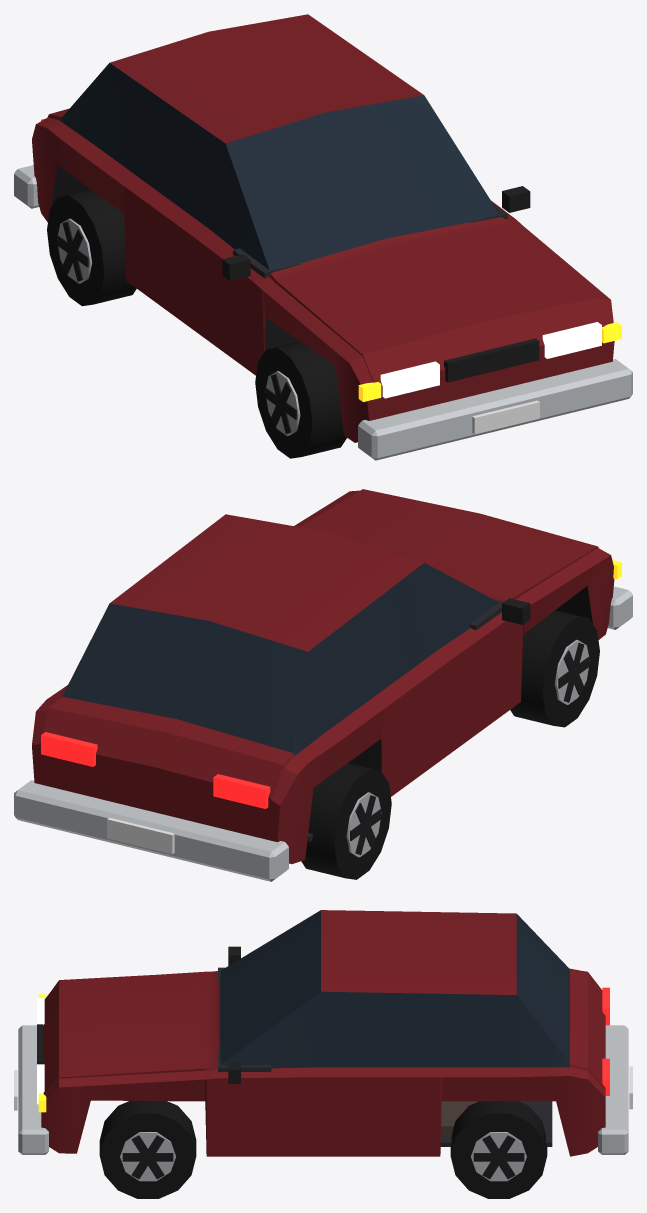
The model's file is saloon.glb.
3 renders of one model, top to bottom at view 1: azimuth 30°, elevation 25°; view 2: azimuth 150°, elevation 25°; view 3: azimuth 270°, elevation 25°, orthographic. The views are drawn at different scales.
Parts seen in each view (by area): view 1: saloon_body, saloon_door_r, saloon_door_br, saloon_wheel_fr, saloon_wheel_rr, saloon_door_l; view 2: saloon_body, saloon_door_r, saloon_door_br, saloon_wheel_rr, saloon_wheel_fr; view 3: saloon_body, saloon_door_l, saloon_door_bl, saloon_wheel_fl, saloon_wheel_rl.
Boxes of the visible parts, x1,y1,x2,y2 form: saloon_body: (14, 14, 632, 460); saloon_door_r: (170, 127, 268, 375); saloon_door_br: (123, 94, 196, 311); saloon_wheel_fr: (255, 341, 346, 458); saloon_wheel_rr: (47, 189, 136, 306); saloon_door_l: (449, 135, 530, 217); saloon_body: (14, 489, 632, 881); saloon_door_r: (400, 563, 530, 768); saloon_door_br: (353, 585, 426, 796); saloon_wheel_rr: (301, 763, 391, 879); saloon_wheel_fr: (510, 610, 599, 727); saloon_body: (14, 910, 632, 1156); saloon_door_l: (221, 991, 361, 1156); saloon_door_bl: (369, 992, 440, 1156); saloon_wheel_fl: (99, 1101, 196, 1198); saloon_wheel_rl: (450, 1101, 547, 1198).
Bounding box in the file's own units: 2.3 × 1.69 × 4.87.
